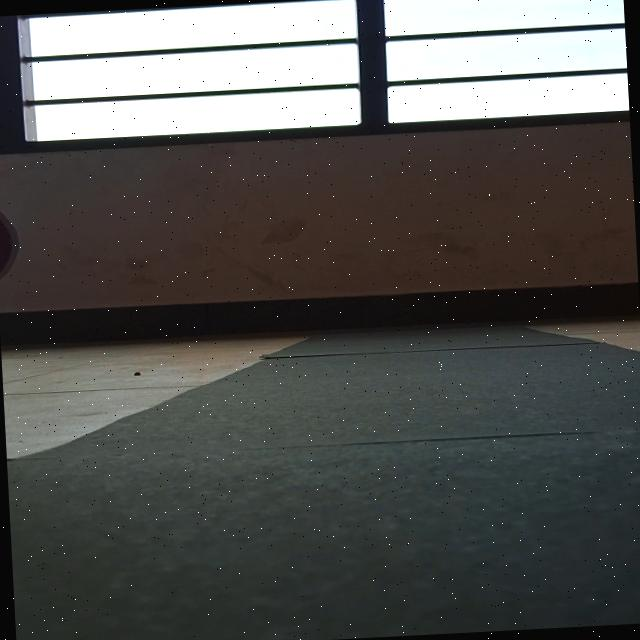Reject: (0, 175, 34, 312)
